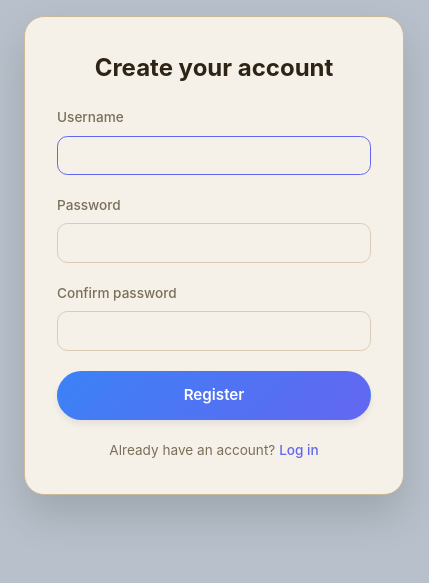
it: AuthForm › register mode › validates short username
In the field labelled "Username": coordinates (214, 155) [57, 136, 371, 175], type "ab"
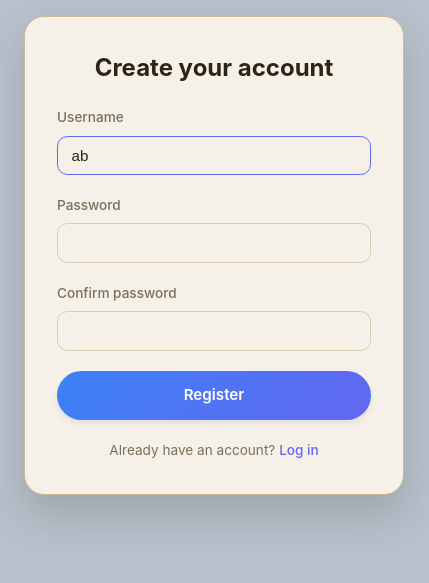
In the password field labelled "Password": coordinates (214, 243) [57, 224, 371, 263], type "password123"
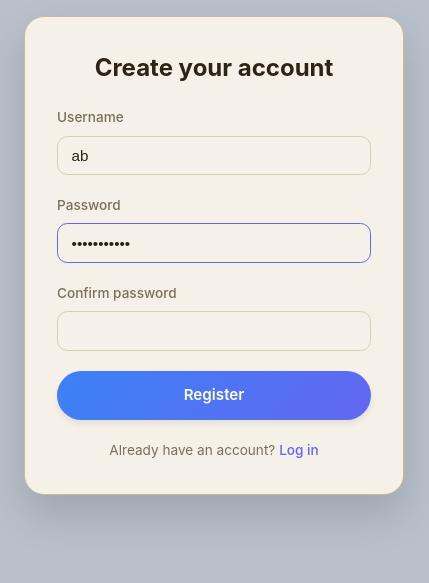
In the password field labelled "Confirm password": coordinates (214, 331) [57, 311, 371, 351], type "password123"
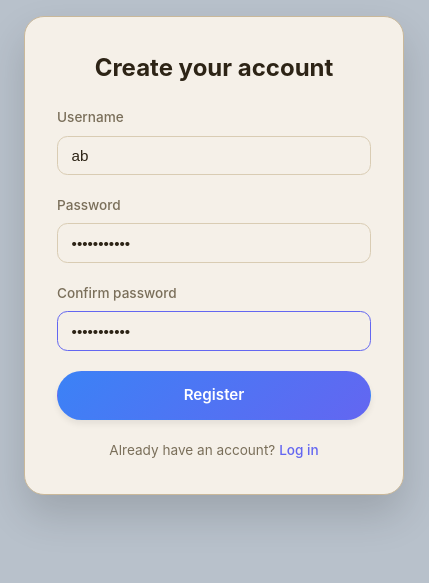
Click the button "Register": coordinates (214, 396) [57, 371, 371, 420]
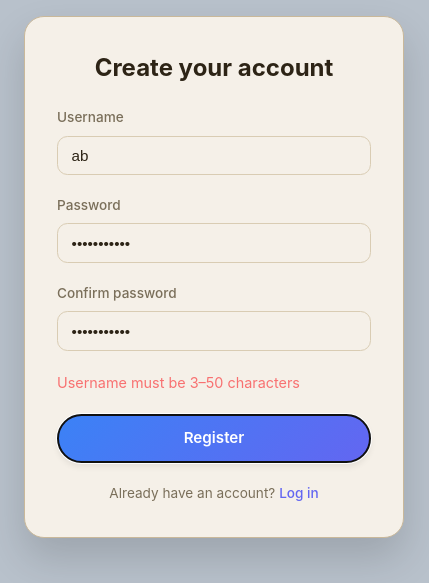
Check: the text "Username must be 3–50 characters" is shown, box [57, 374, 300, 391]
